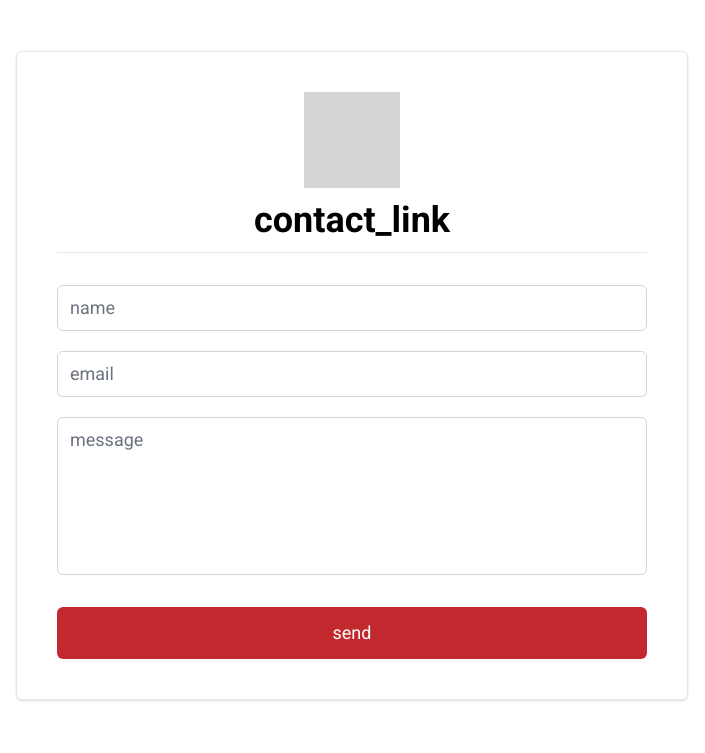
ContactPage › renders contact form and submits successfully
expect the field with placeholder "email" is shown: met, box left=57, top=350, right=647, bottom=396
expect the text box with placeholder "message" is shown: met, box left=57, top=416, right=647, bottom=574
Type "Test User" into the field with placeholder "name" at (352, 308), box left=57, top=284, right=647, bottom=330
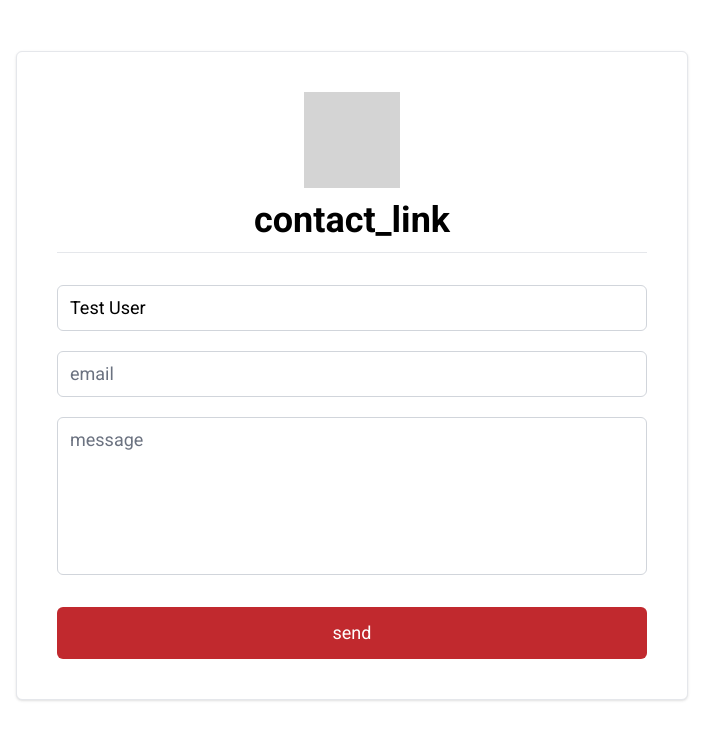
Type "test@example.com" into the field with placeholder "email" at (352, 374), box left=57, top=350, right=647, bottom=396
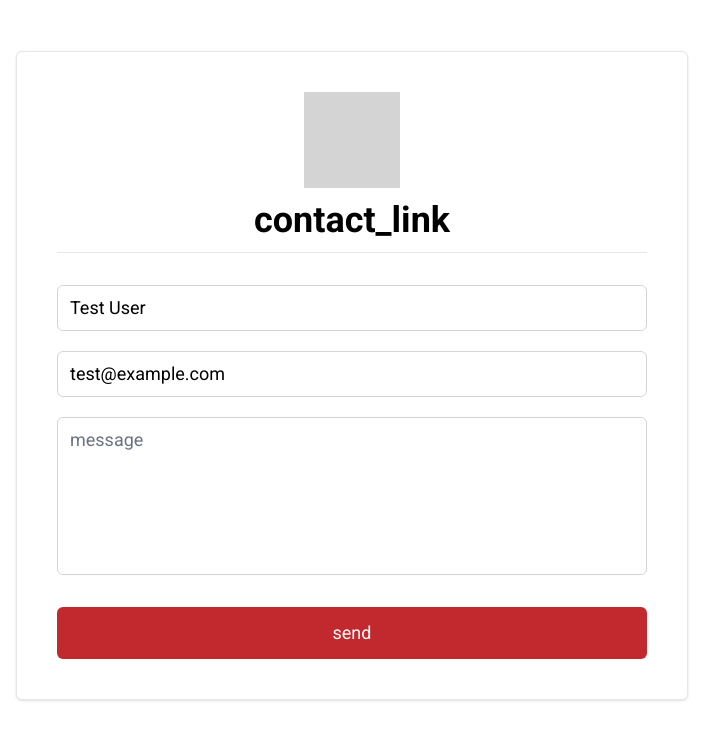
Type "Hello!" into the text box with placeholder "message" at (352, 496), box left=57, top=416, right=647, bottom=574
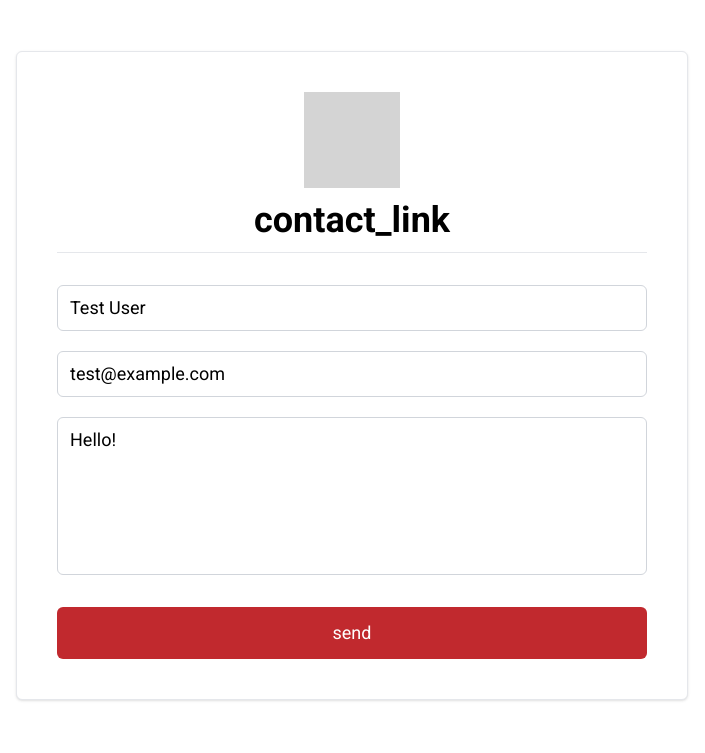
Click the button "send" at (352, 632), box left=57, top=606, right=647, bottom=658
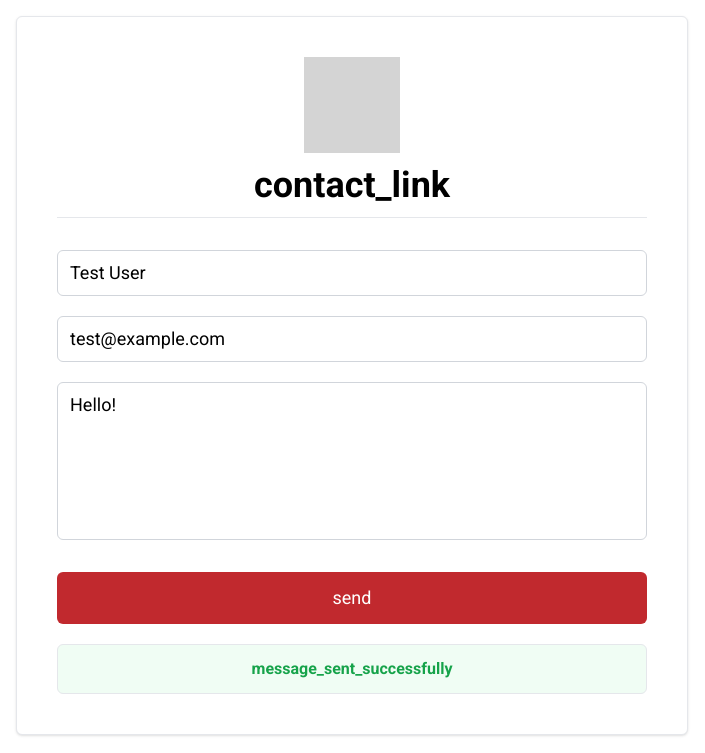
expect the text "message_sent_successfully" is shown: met, box left=57, top=644, right=647, bottom=694
